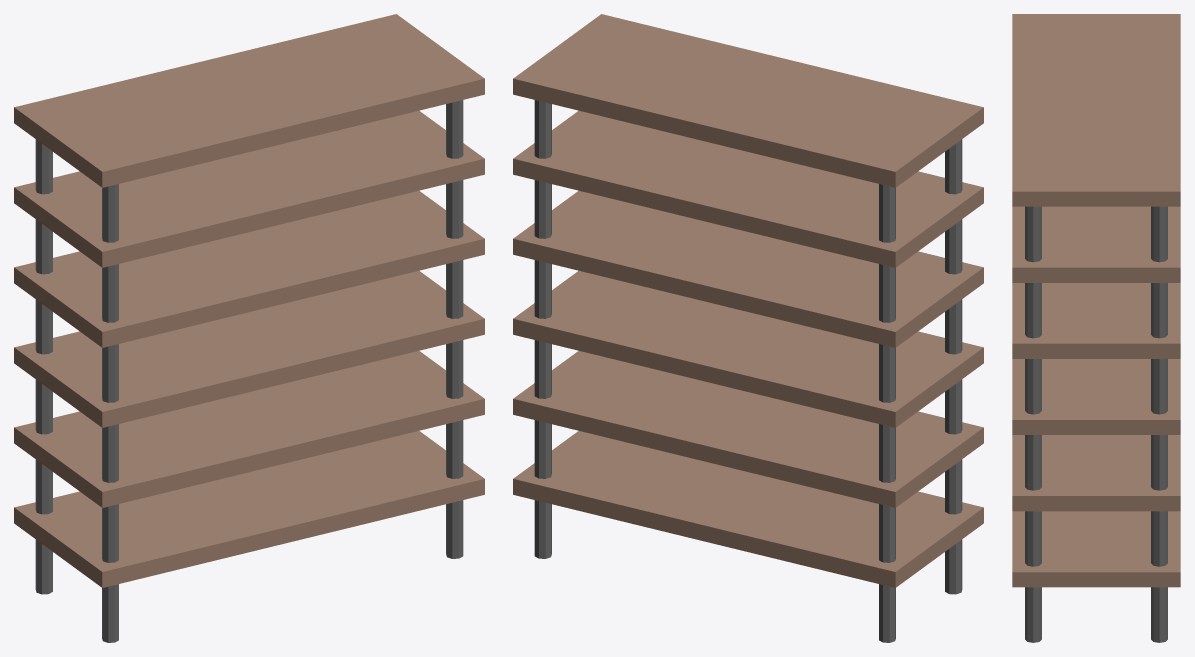
The model's file is shelves1.fbx.
3 views of the same model, side by side, from view 1: azimuth 30°, elevation 25°; view 2: azimuth 150°, elevation 25°; view 3: azimuth 270°, elevation 25° (orthographic). The views are drawn at different scales.
Parts seen in each view (by area): view 1: Cube.003; view 2: Cube.003; view 3: Cube.003.
Part boxes in pixels (x1,y1,x2,y2): Cube.003: (14,14,484,642); Cube.003: (513,14,983,642); Cube.003: (1012,14,1180,642).
Size of the model in its own units: 200 by 240 by 80.
